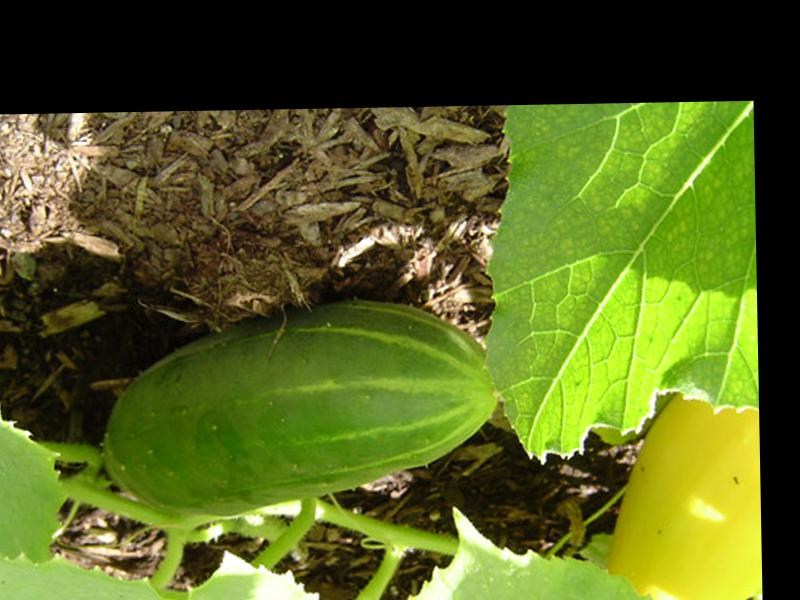Cucumber: (98, 295, 501, 520)
